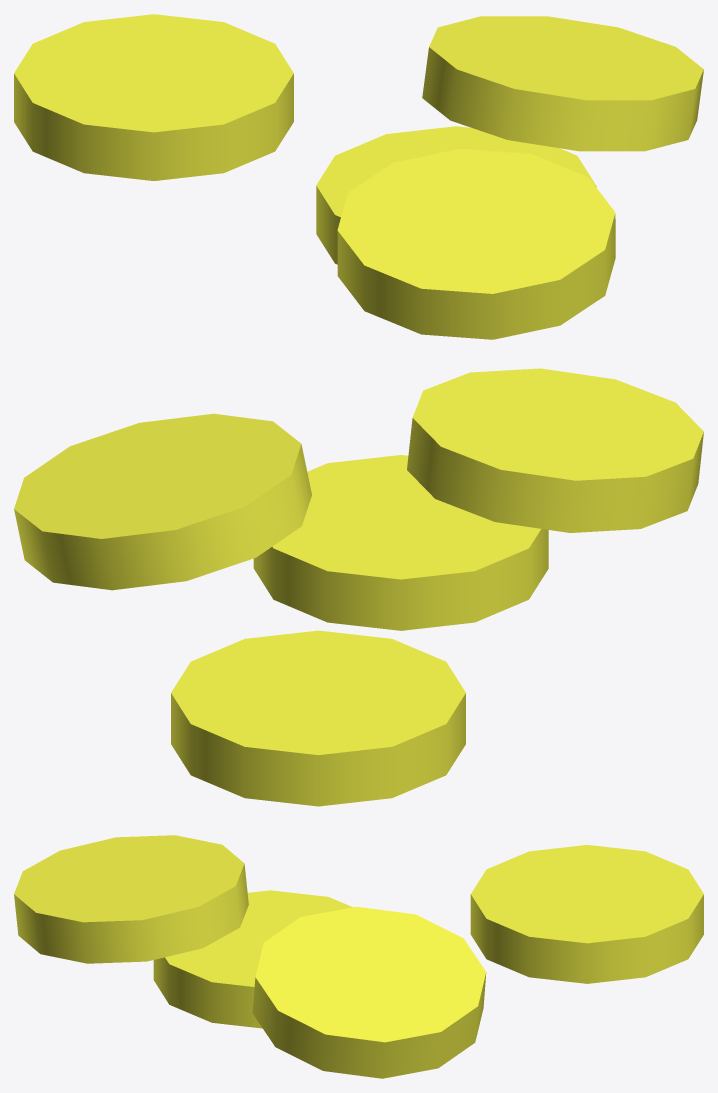
Rendered from Coins 6.glb.
3 renders of one model, top to bottom at view 1: azimuth 30°, elevation 25°; view 2: azimuth 150°, elevation 25°; view 3: azimuth 270°, elevation 25°, orthographic. The views are drawn at different scales.
Parts seen in each view (by area): view 1: coins_6; view 2: coins_6; view 3: coins_6.
Boxes of the visible parts, left/top/right/bottom form: coins_6: left=14, top=14, right=703, bottom=339; coins_6: left=14, top=368, right=703, bottom=806; coins_6: left=14, top=835, right=703, bottom=1078.
Size of the model in its own units: 0.4305 by 0.0898 by 0.5918.
